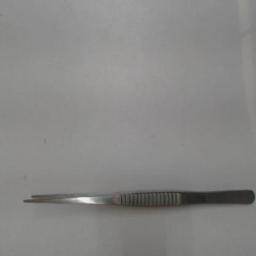DeBakey Dissector: (15, 177, 255, 215)
